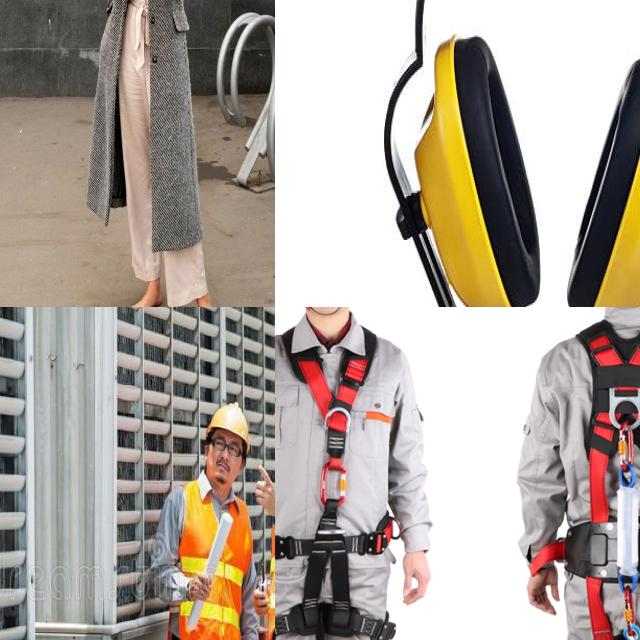Barefoots: (126, 288, 162, 307)
Ear-protection: (357, 0, 640, 307)
Harness: (275, 324, 404, 635), (574, 317, 640, 640)
face_nomask: (203, 426, 245, 484)
glasses: (210, 436, 242, 462)
hand_noglove: (251, 469, 275, 535), (192, 565, 212, 613)
head_helmet: (202, 401, 250, 453)
person: (168, 401, 255, 640)
vest: (171, 485, 263, 640)
